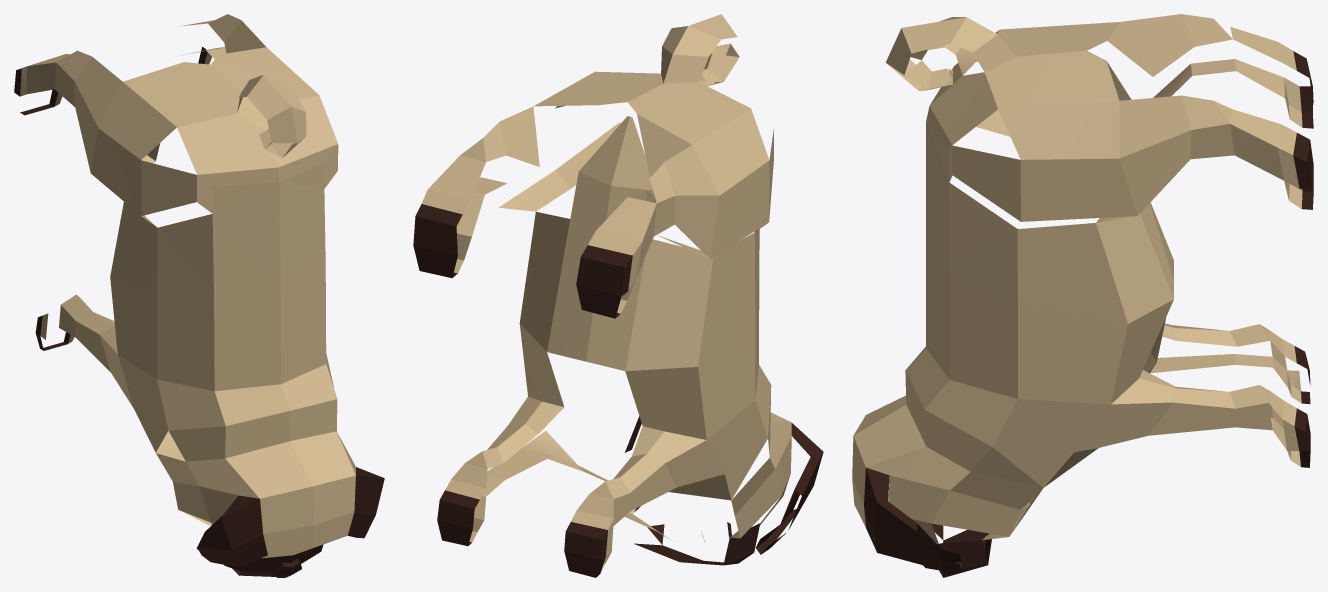
The model's file is polypizza-pug.glb.
3 renders of one model, left to right at view 1: azimuth 30°, elevation 25°; view 2: azimuth 150°, elevation 25°; view 3: azimuth 270°, elevation 25°, orthographic. The views are drawn at different scales.
Parts seen in each view (by area): view 1: Pug; view 2: Pug; view 3: Pug.
Part boxes in pixels (bbox=[...]): Pug: bbox=[14, 14, 384, 577]; Pug: bbox=[413, 14, 823, 577]; Pug: bbox=[852, 14, 1313, 577].
Bounding box in the file's own units: 0.4131 × 1 × 0.7593.
